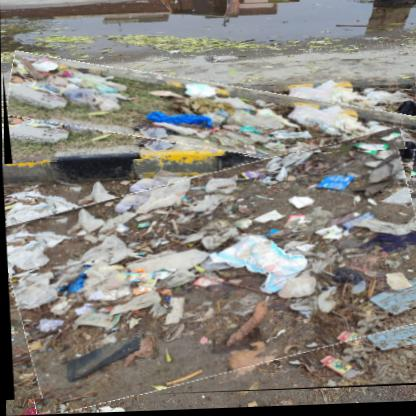Garbage: (2, 152, 416, 403), (3, 60, 416, 181)
